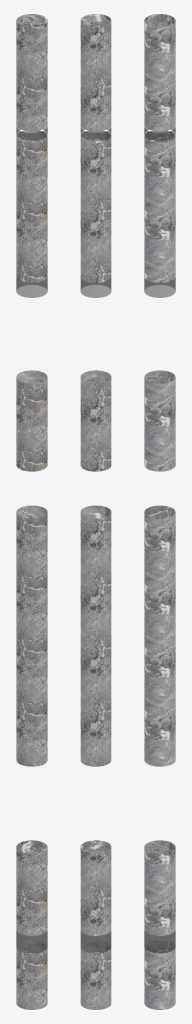
File: tunnel_H1_7.glb
The picture shows the model from 3 angles, left to right: view 1: azimuth 90°, elevation 25°; view 2: azimuth 150°, elevation 25°; view 3: azimuth 270°, elevation 25°; orthographic projection.
Visible parts, largest first — view 1: XSBYSZK_01 (×2); view 2: XSBYSZK_01 (×2); view 3: XSBYSZK_01 (×2).
Boxes of the visible parts, bbox=[...] form: XSBYSZK_01 (×2): bbox=[16, 14, 47, 1009]; XSBYSZK_01 (×2): bbox=[80, 14, 111, 1009]; XSBYSZK_01 (×2): bbox=[144, 14, 175, 1009].
Size of the model in its own units: 7.54 by 264 by 7.6.
Materials: 2 (1 with a texture image).
